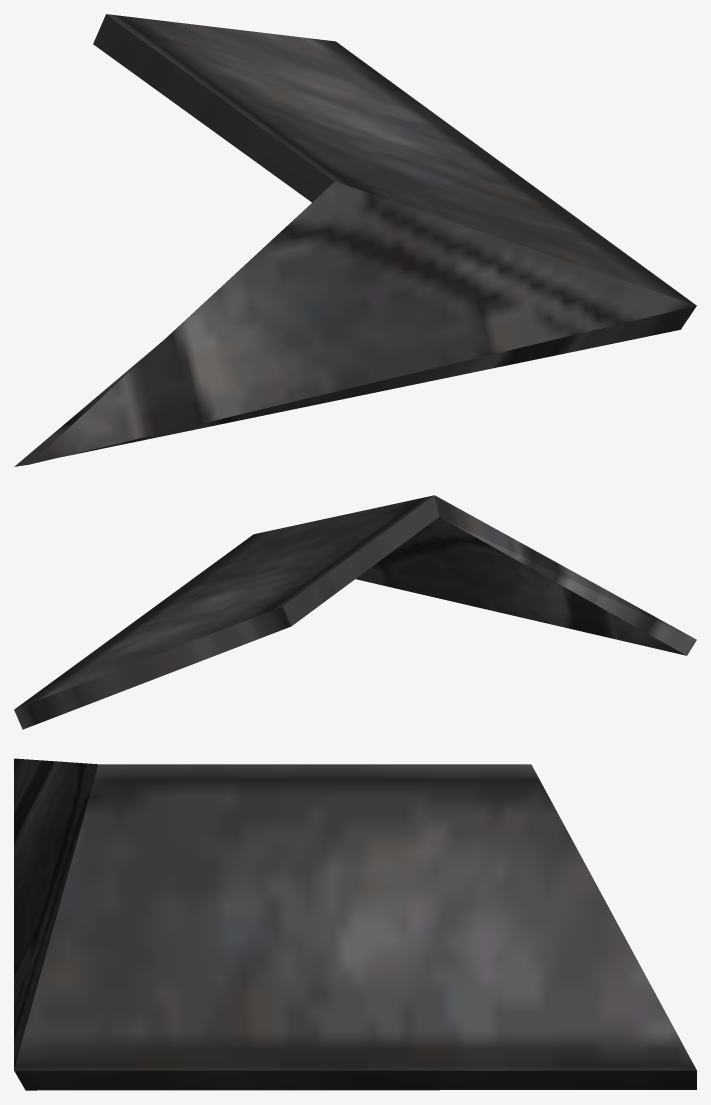
The model's file is Shared - Ground Vehicles - CV Generic x 10 - CVGeneric_x10.glb.
3 renders of one model, top to bottom at view 1: azimuth 30°, elevation 25°; view 2: azimuth 150°, elevation 25°; view 3: azimuth 270°, elevation 25°, orthographic. The views are drawn at different scales.
Parts seen in each view (by area): view 1: CVGENERIC_X10; view 2: CVGENERIC_X10; view 3: CVGENERIC_X10.
Part boxes in pixels (x1,y1,x2,y2): CVGENERIC_X10: [14, 14, 696, 466]; CVGENERIC_X10: [14, 495, 696, 729]; CVGENERIC_X10: [14, 758, 696, 1090].
Size of the model in its own units: 7.87 by 2.21 by 7.37.
1 material, 1 textured.
